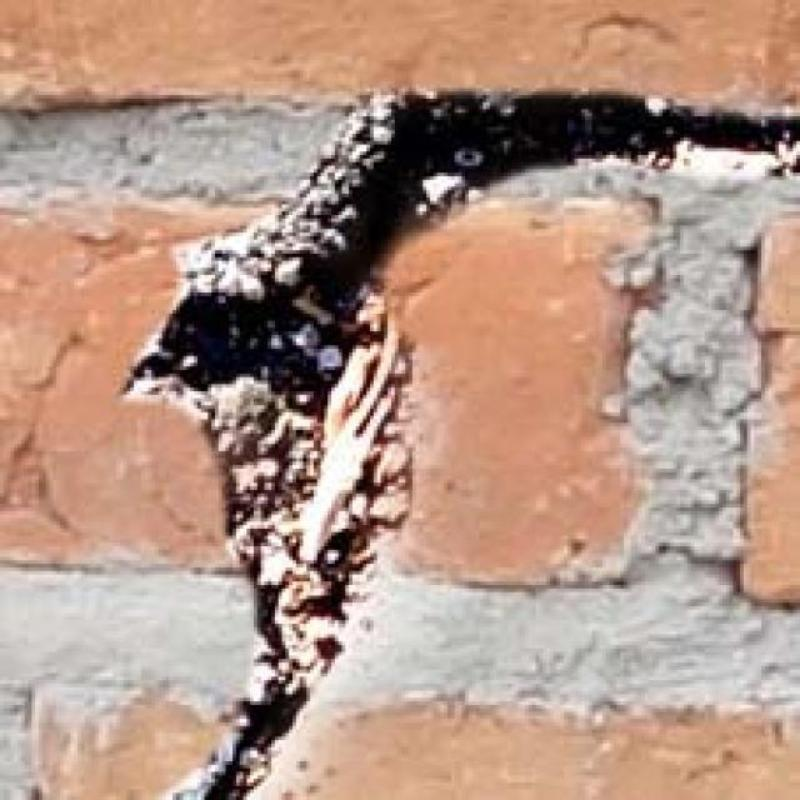pothole: (128, 95, 800, 799)
